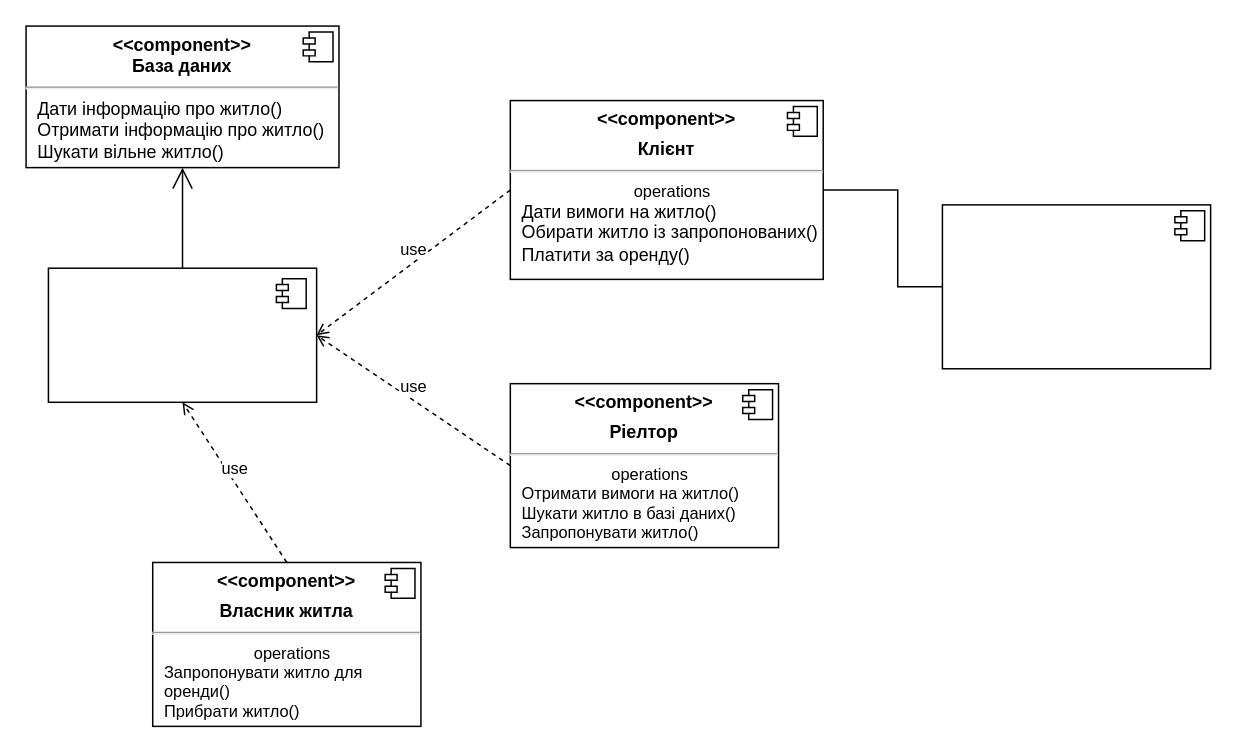
This 1237x752 diagram has some shape labels left out. Each missing label, with the box of its shape:
<<component>> Житло operations Заселитись() Платити за оренду(): (941, 203, 1211, 369)
«Office» Житлове агентство: (47, 267, 317, 402)
